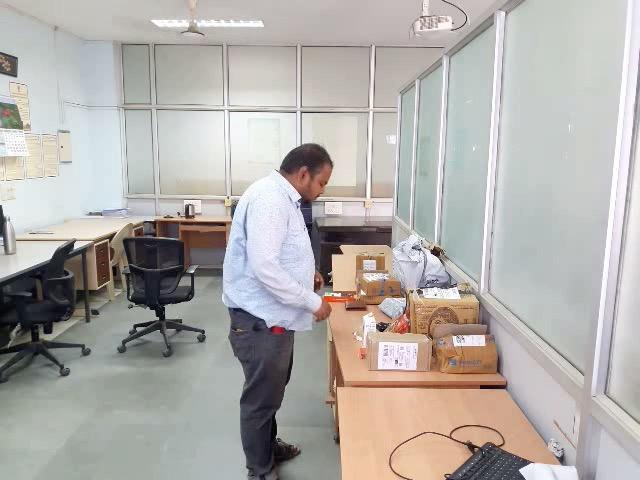shoplifting: (199, 277, 340, 413)
